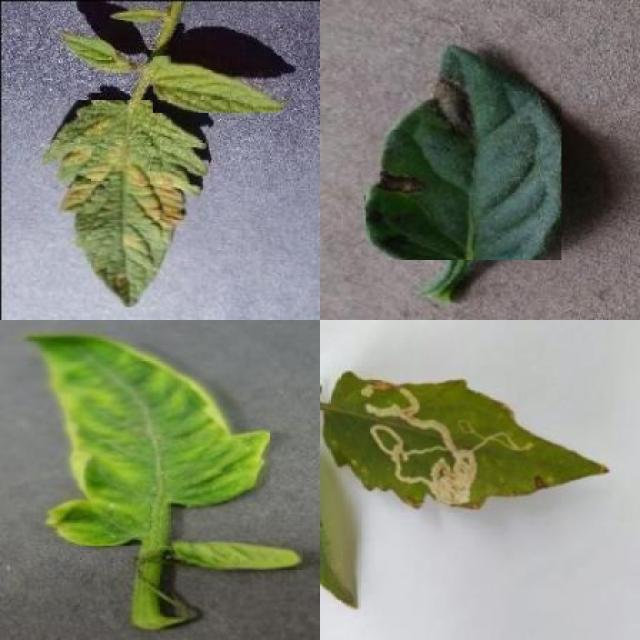Early Blight: (366, 43, 561, 260)
Healthy: (153, 56, 281, 113)
Leaf Miner: (320, 370, 611, 511)
Leaf Mold: (40, 100, 208, 307)
Yellow Leaf Curl Virus: (27, 334, 270, 546), (172, 539, 302, 570)
